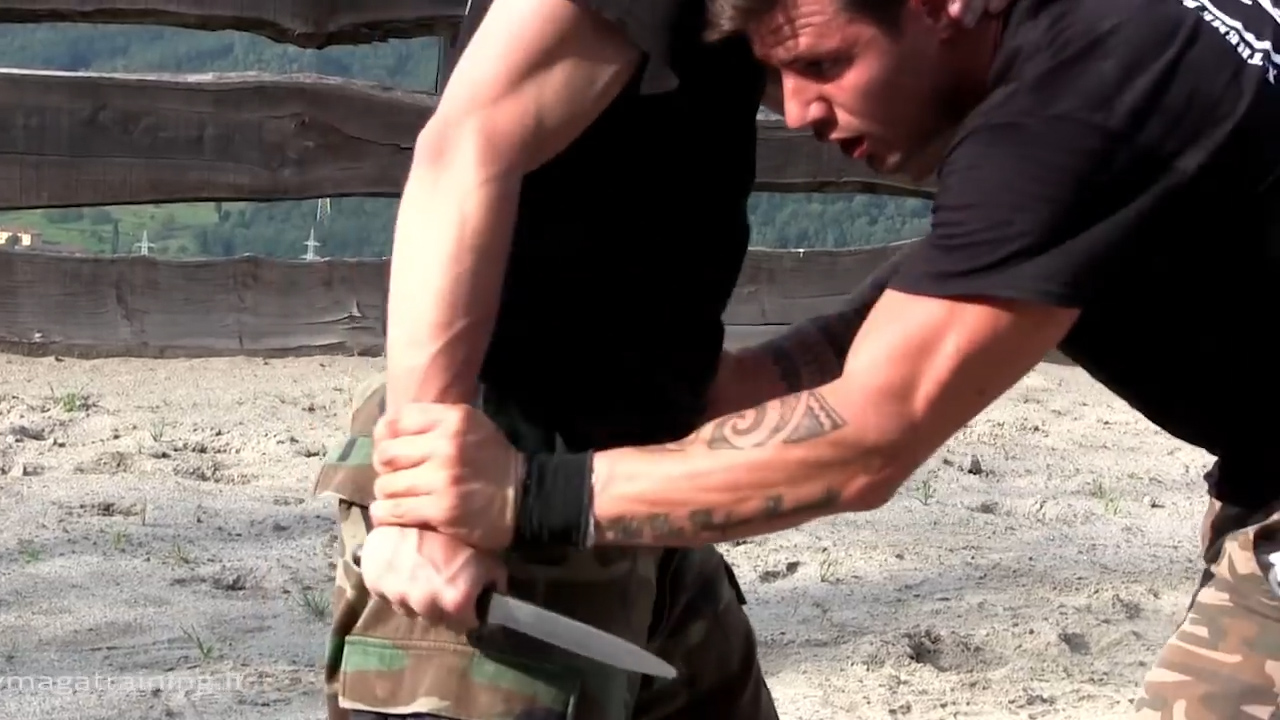knife: (349, 535, 685, 692)
